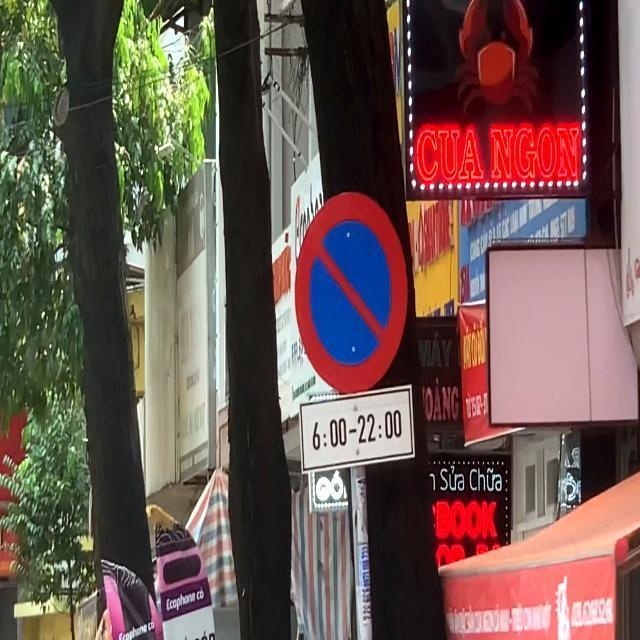131a-cam-do-xe: (292, 187, 408, 395)
